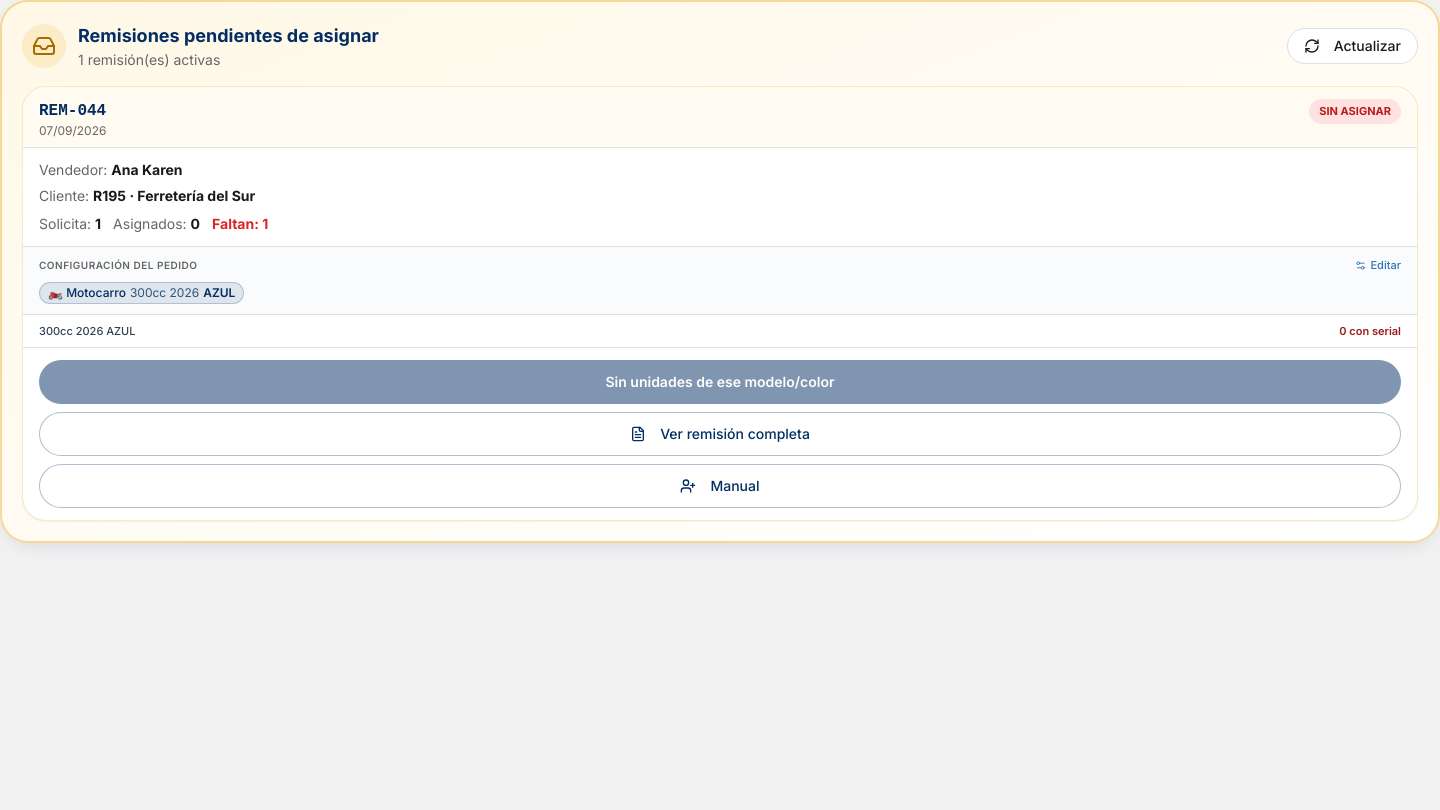
it: Motocarro ya armado · el chasis que ya está en inventario manda › si fábrica insiste en un color sin juegos libres, lo dice y da la salida
Click the button "Manual" at (720, 486), box [39, 464, 1401, 508]
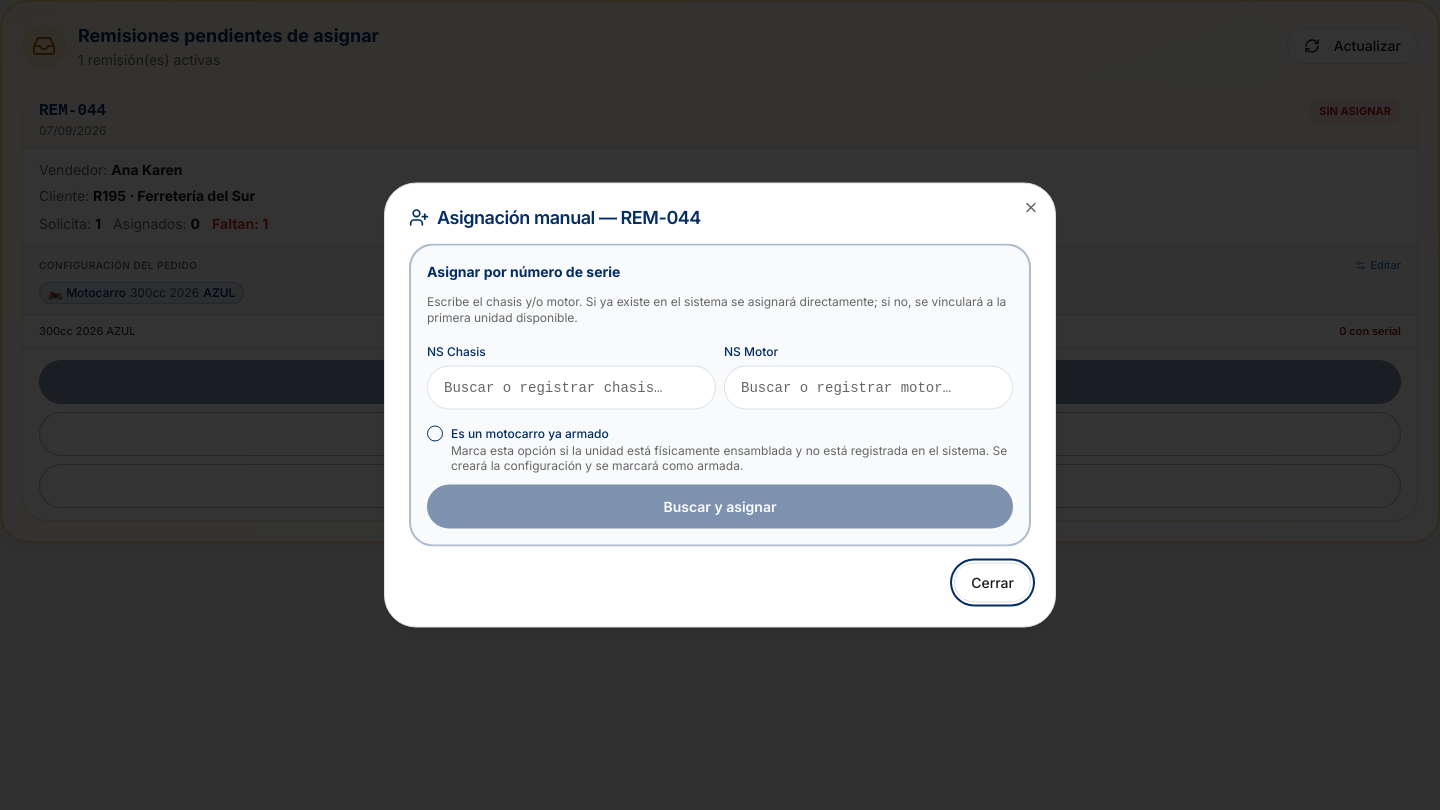
Click the checkbox with id "yaArmado" at (435, 434), box [427, 426, 443, 442]
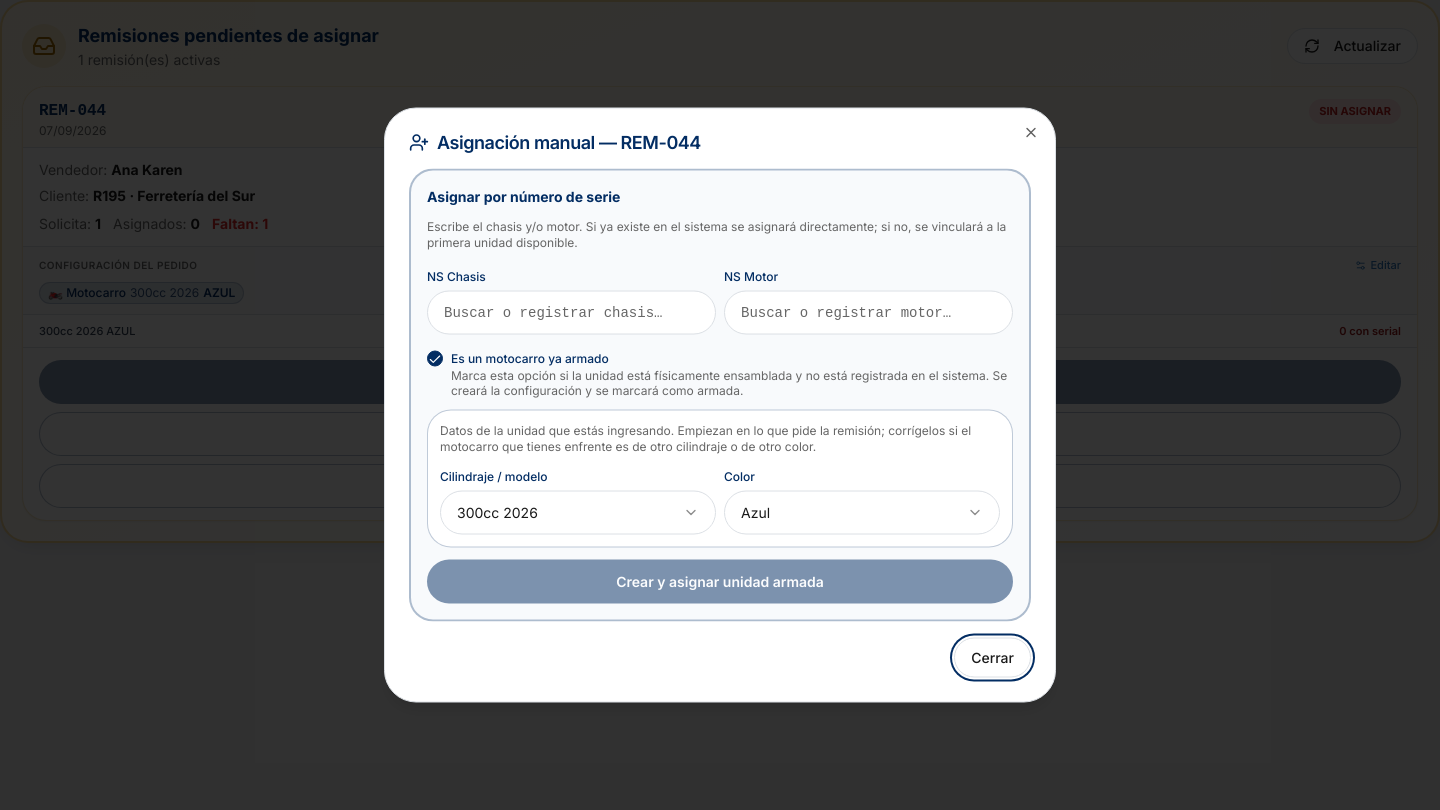
Type "3DVHCPZF9T1M00487" into the field with placeholder "Buscar o registrar chasis…" at (572, 312), box [427, 290, 716, 334]
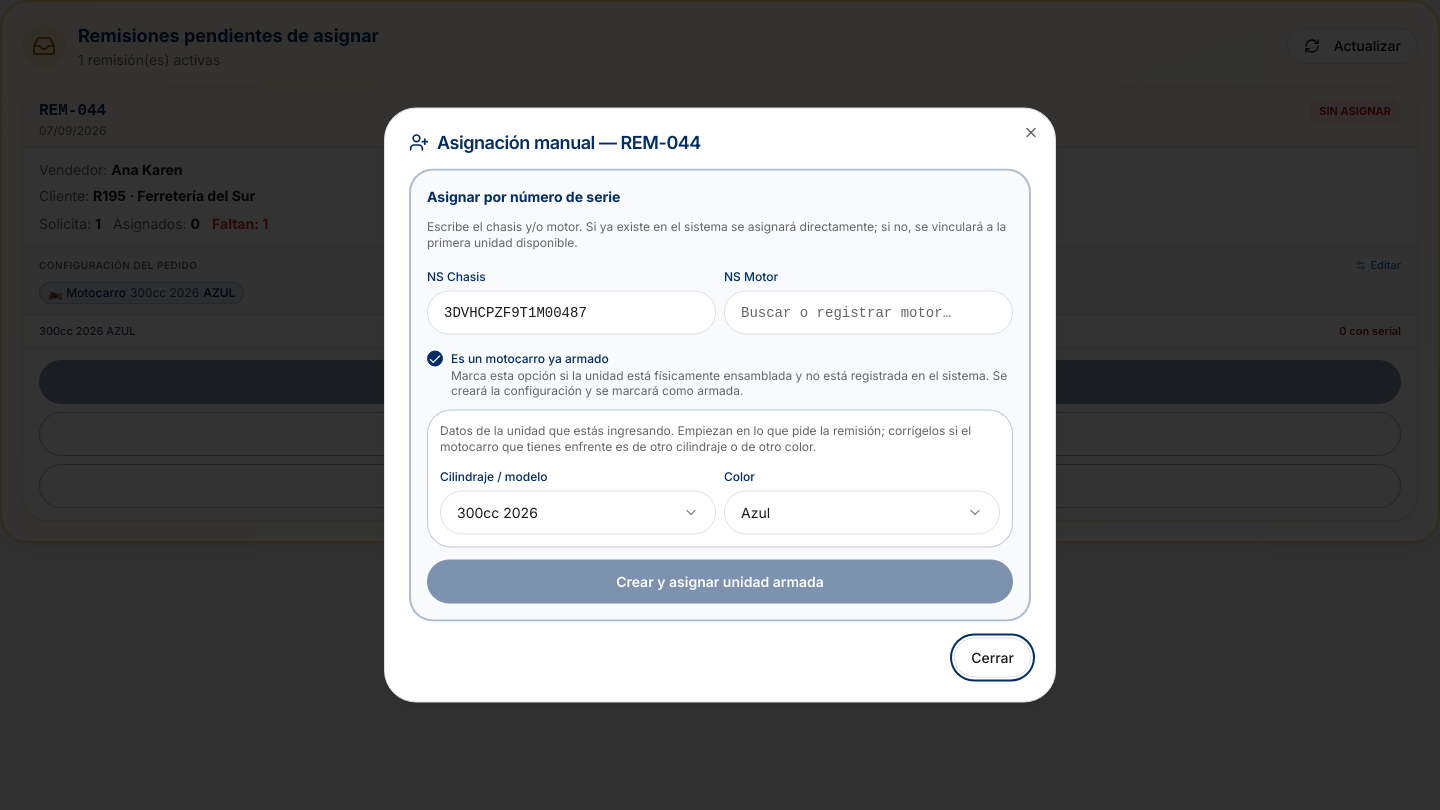
Type "DZ170MMT2M00487" into the field with placeholder "Buscar o registrar motor…" at (868, 312), box [724, 290, 1013, 334]
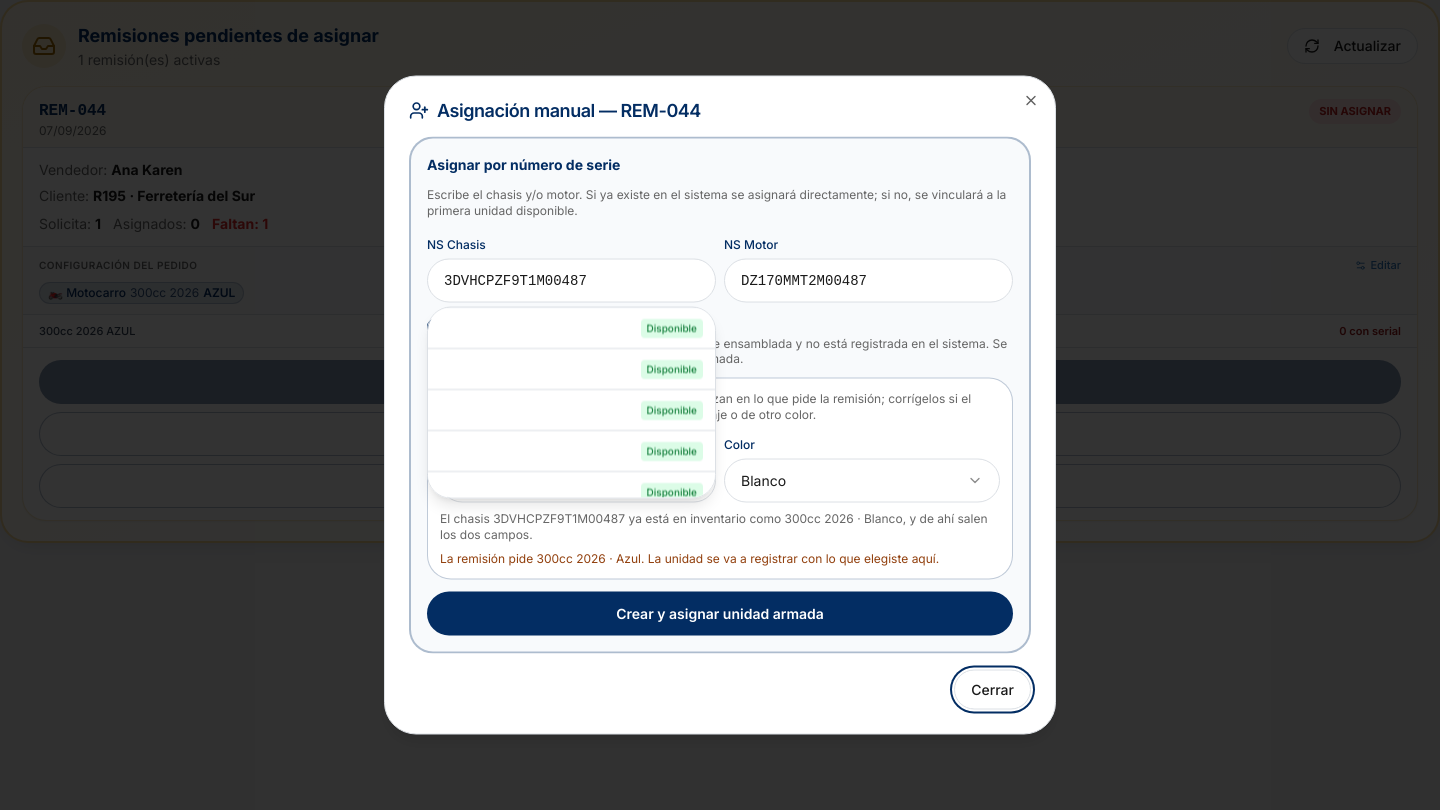
Press Enter in the dropdown labelled "Blanco", box [724, 458, 1000, 502]
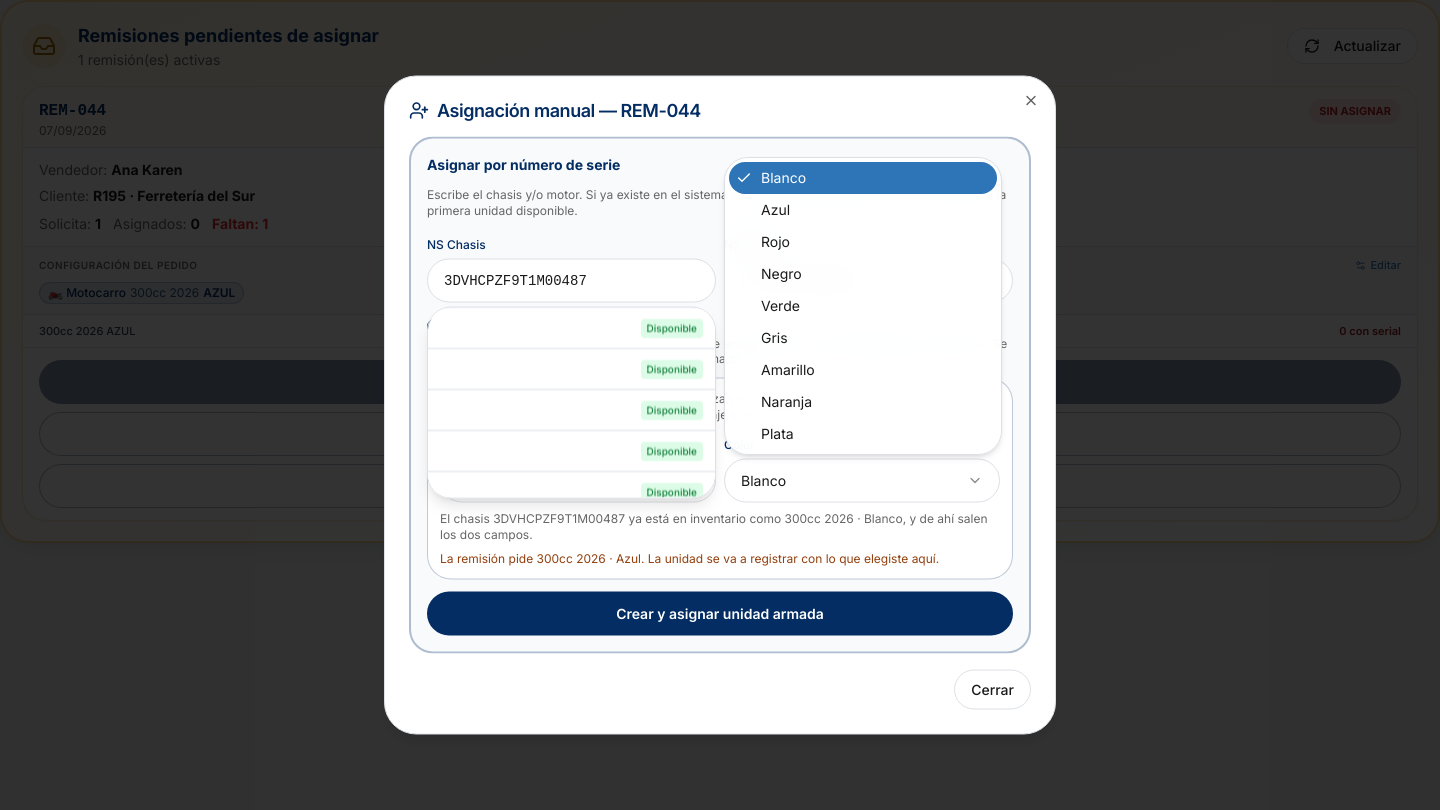
Press Enter in the option "Azul", box [761, 201, 790, 218]
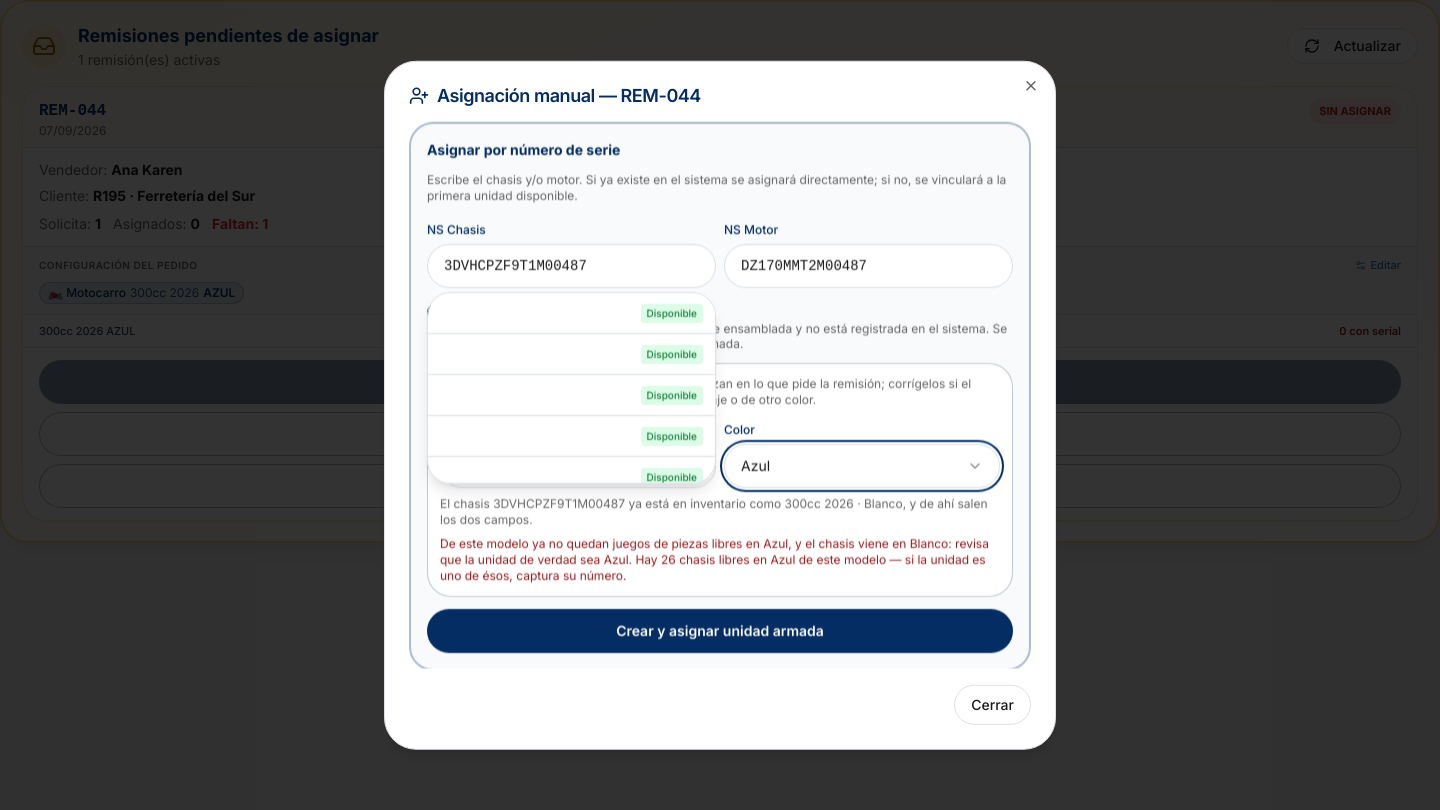
Now the button "Crear y asignar unidad armada" is enabled, box [427, 609, 1013, 653]
Now the text "ya no quedan juegos de piezas libres en Azul" is shown, box [440, 536, 989, 567]
Now the text "26 chasis libres en Azul" is shown, box [440, 552, 986, 583]
